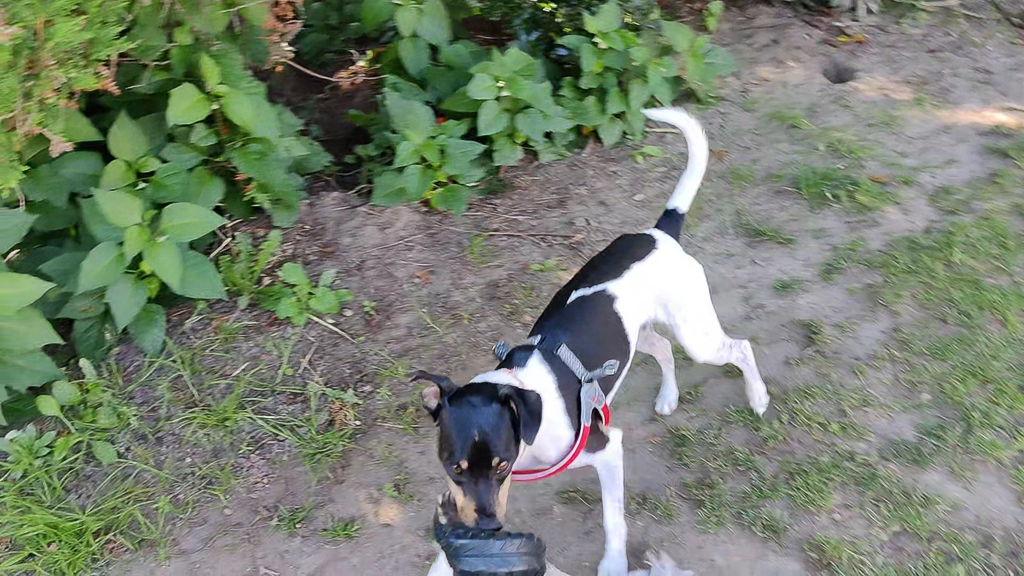Dog: (389, 98, 806, 576)
